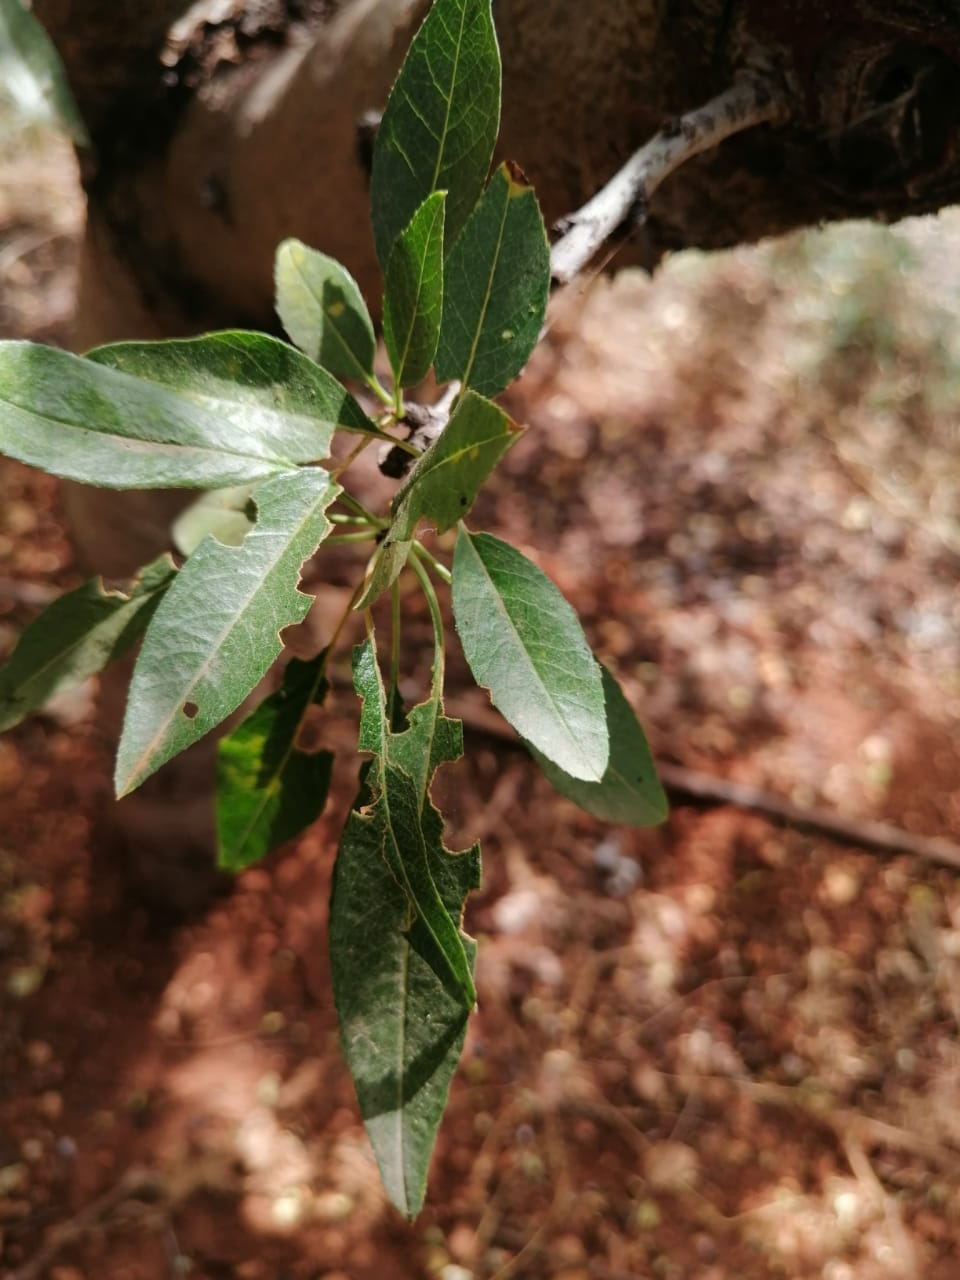othyorinques: (109, 467, 348, 799), (349, 627, 482, 1006)
